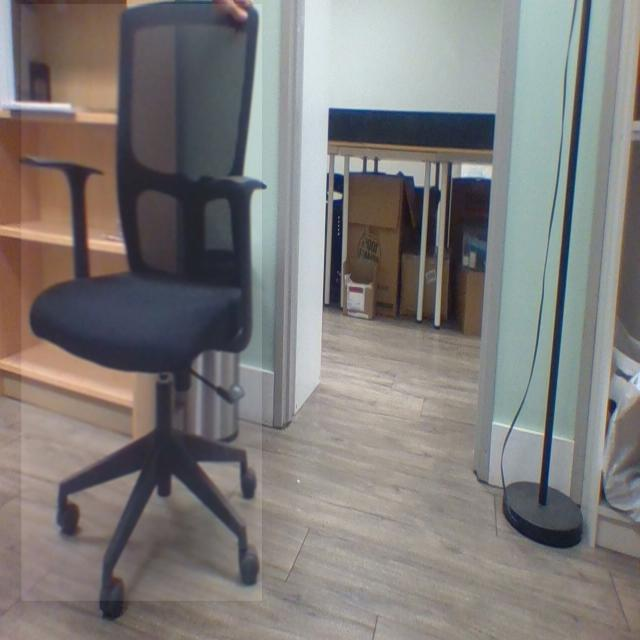chair: (38, 0, 261, 621)
